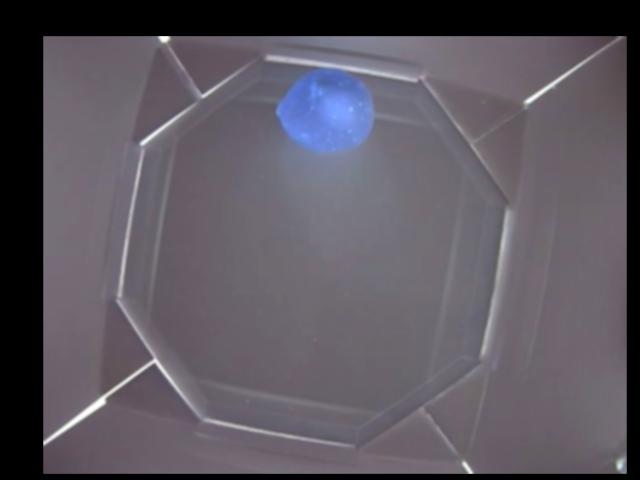Potato: (273, 71, 373, 150)
